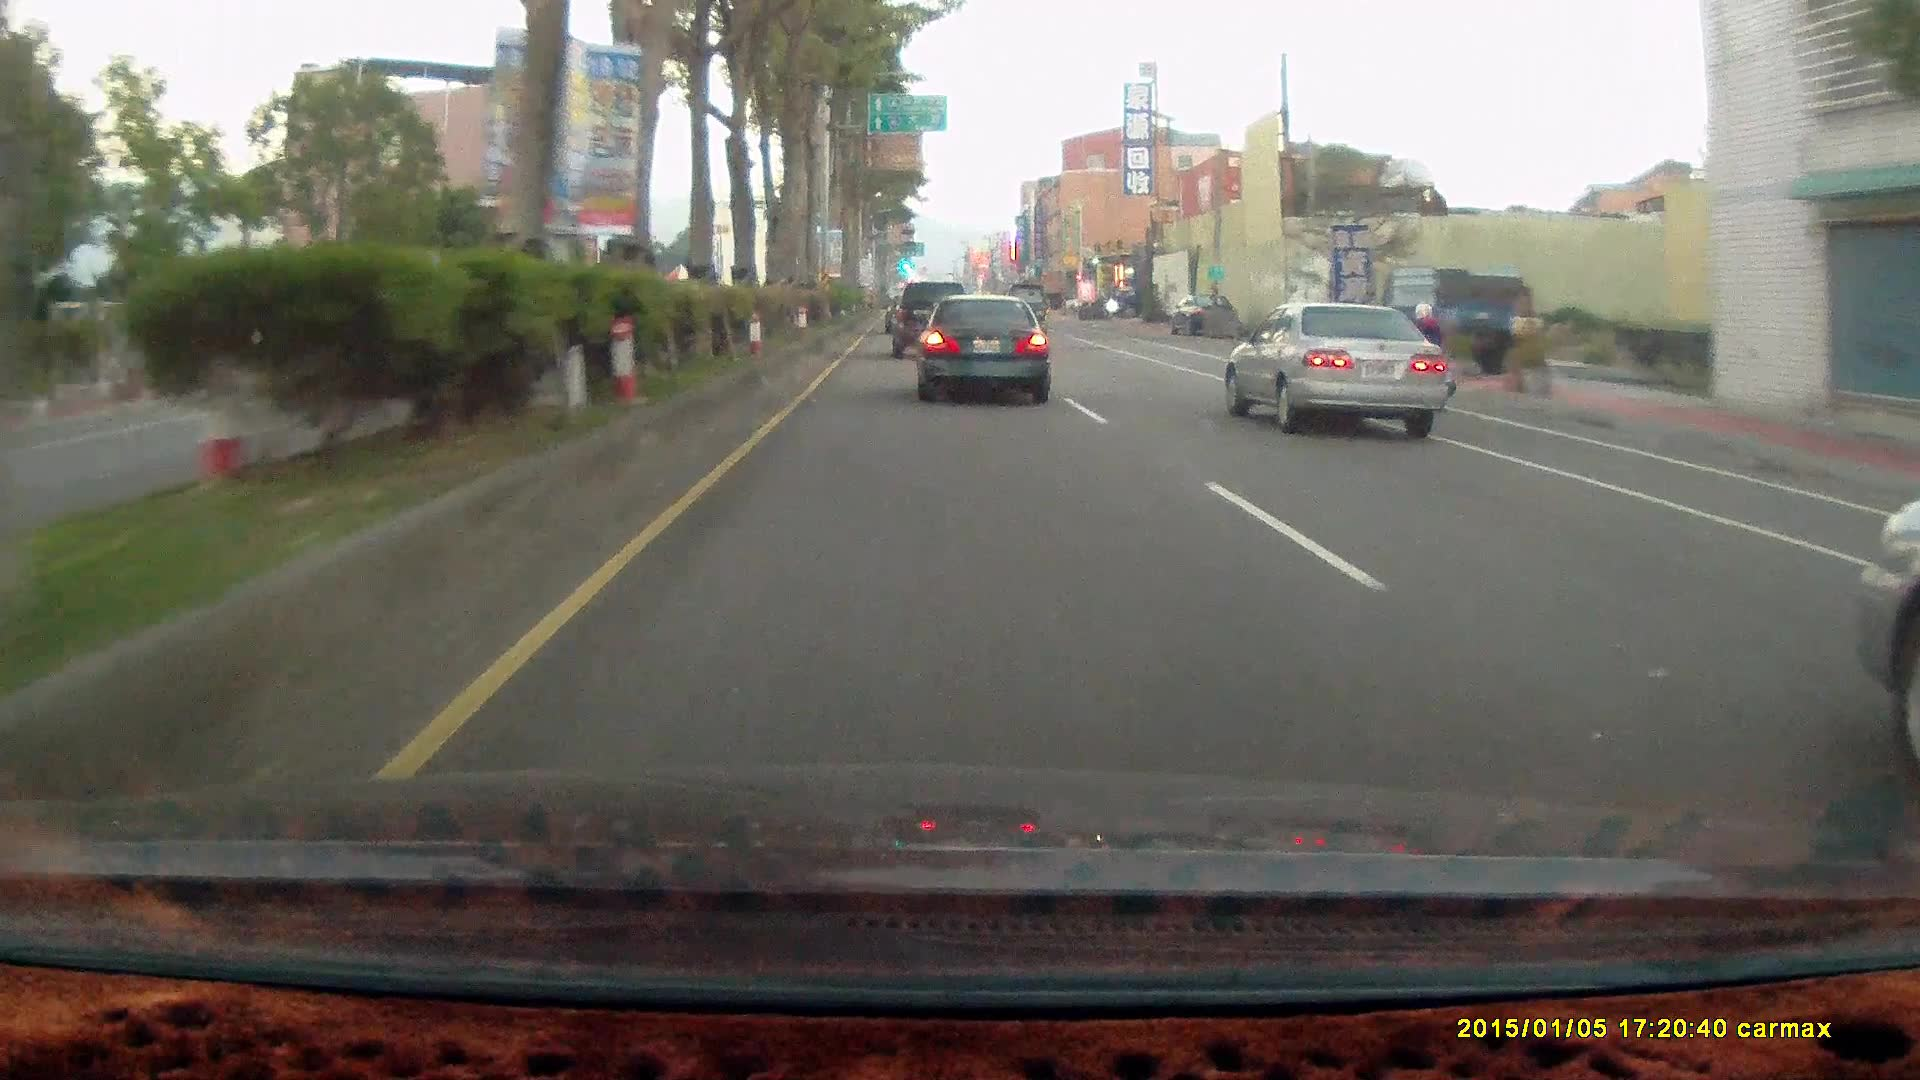rider: (1389, 301, 1452, 414), (1396, 296, 1452, 407)
vehicle: (1223, 298, 1449, 437), (1233, 302, 1456, 441), (911, 294, 1049, 404), (1385, 268, 1529, 372), (1384, 266, 1529, 371), (918, 297, 1054, 403), (888, 281, 971, 359), (1169, 295, 1243, 343), (1102, 281, 1167, 319), (1001, 280, 1047, 329)
